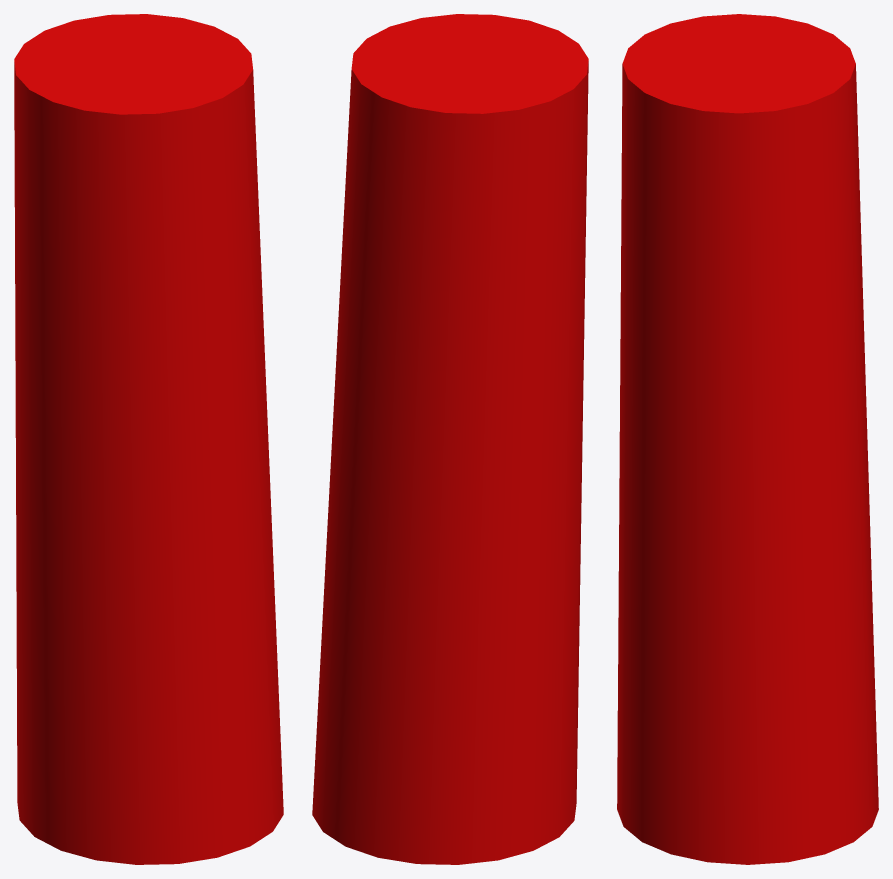
Rendered from CandleCollider.fbx.
3 views of the same model, side by side, from view 1: azimuth 30°, elevation 25°; view 2: azimuth 150°, elevation 25°; view 3: azimuth 270°, elevation 25° (orthographic). The views are drawn at different scales.
Parts seen in each view (by area): view 1: CandleCollision; view 2: CandleCollision; view 3: CandleCollision.
Part boxes in pixels (x1,y1,x2,y2): CandleCollision: (14,14,283,864); CandleCollision: (312,14,588,864); CandleCollision: (617,14,878,864).
Bounding box in the file's own units: 3.07 × 9.14 × 2.95.
